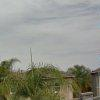Palm tree: (5, 54, 38, 95)
